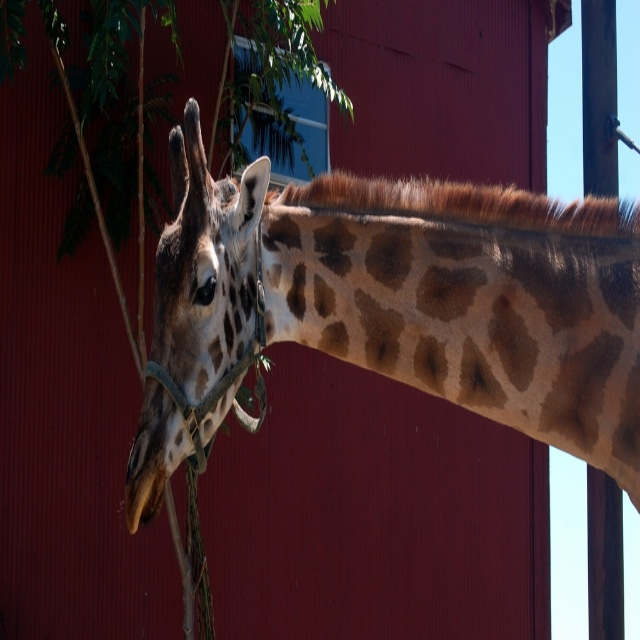Giraffe: (128, 112, 639, 563)
